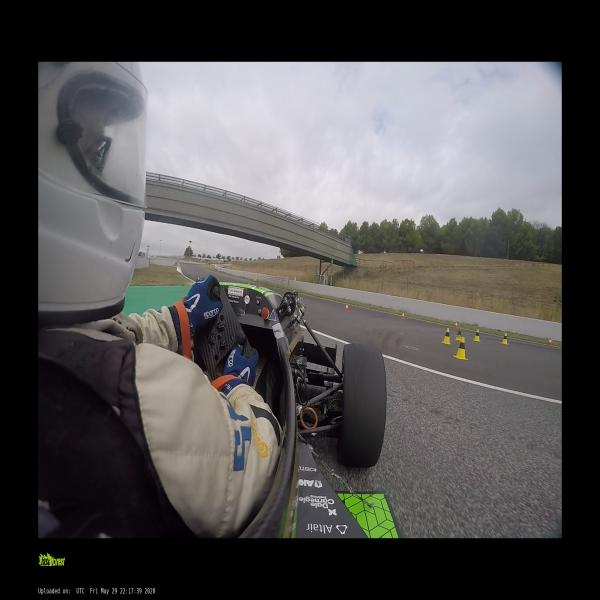orange_cone: (546, 338, 552, 347), (453, 321, 459, 329), (344, 303, 348, 312), (400, 312, 404, 320)
yellow_cone: (452, 337, 468, 361), (440, 328, 452, 346), (472, 328, 482, 343), (453, 328, 463, 343), (500, 332, 509, 345)
